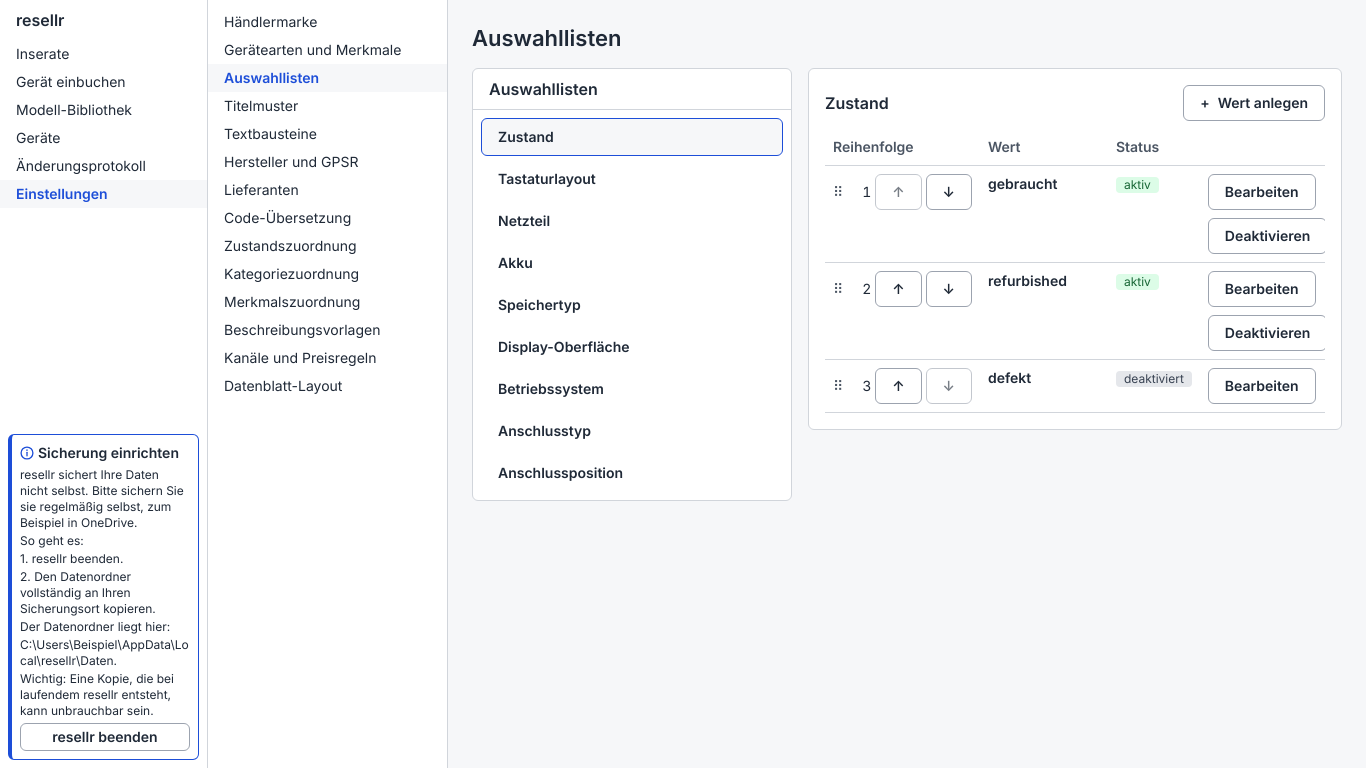
Test case: UI-028 pick lists (CU-096) › UI-028.success DER-35-03 DER-35-13 shows "Gespeichert" after a rename and opens no impact dialog UI-043
Expected: the row "⠿ 1 ↑ ↓ gebraucht aktiv Bearbeiten Deaktivieren" is shown, [825,165,1325,262]
Click the button "Bearbeiten" in the row of "gebraucht": [1262, 192] box [1208,174,1316,210]
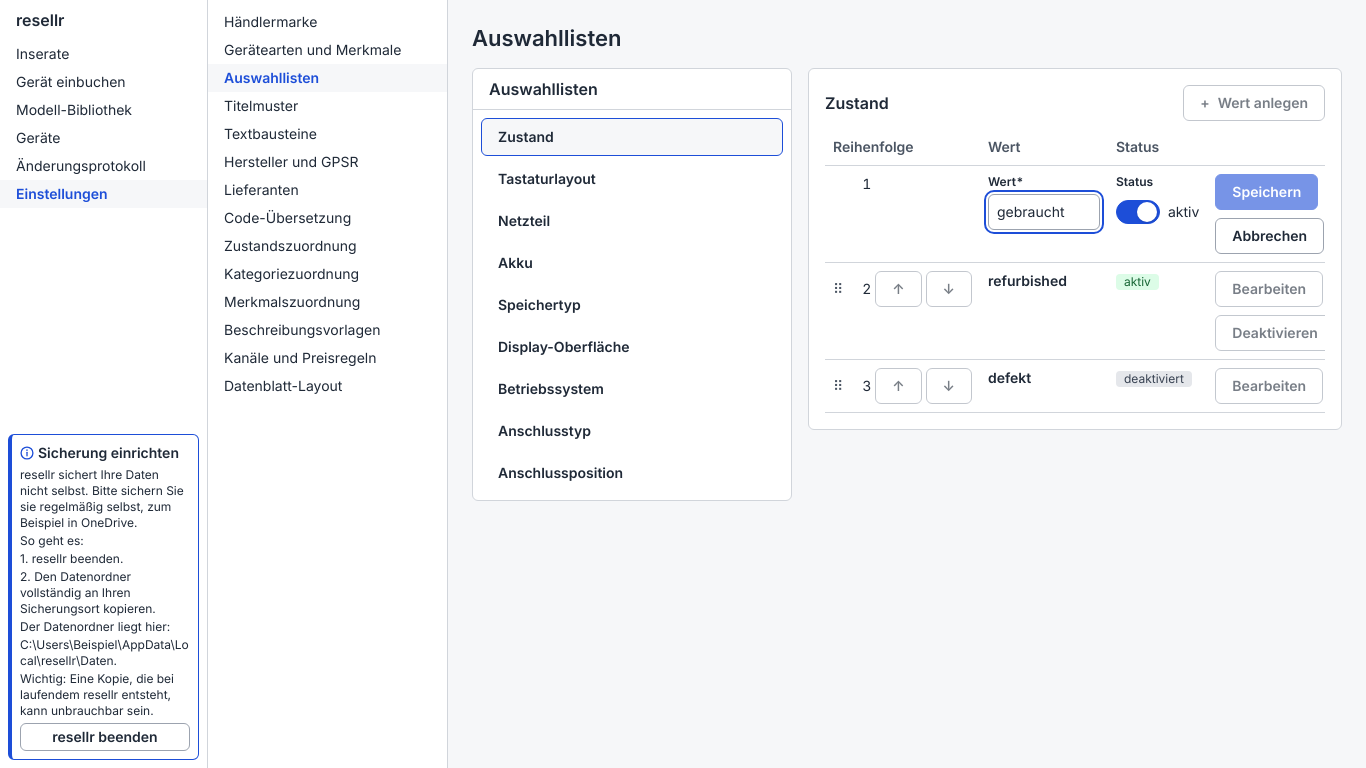
Replace the text in the field labelled "Wert*" with "benutzt": [1044, 212] box [988,194,1100,230]
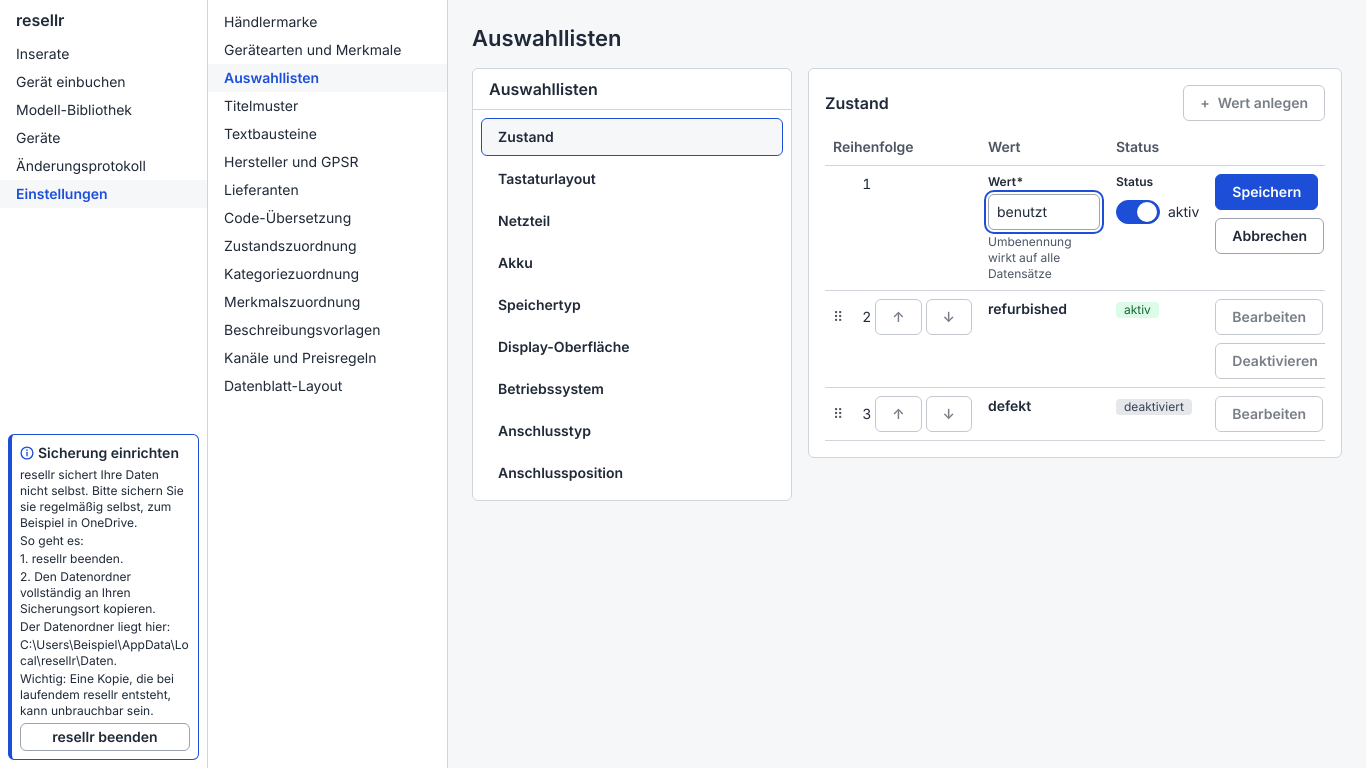
Click the button "Speichern": [1267, 192] box [1215,174,1318,210]
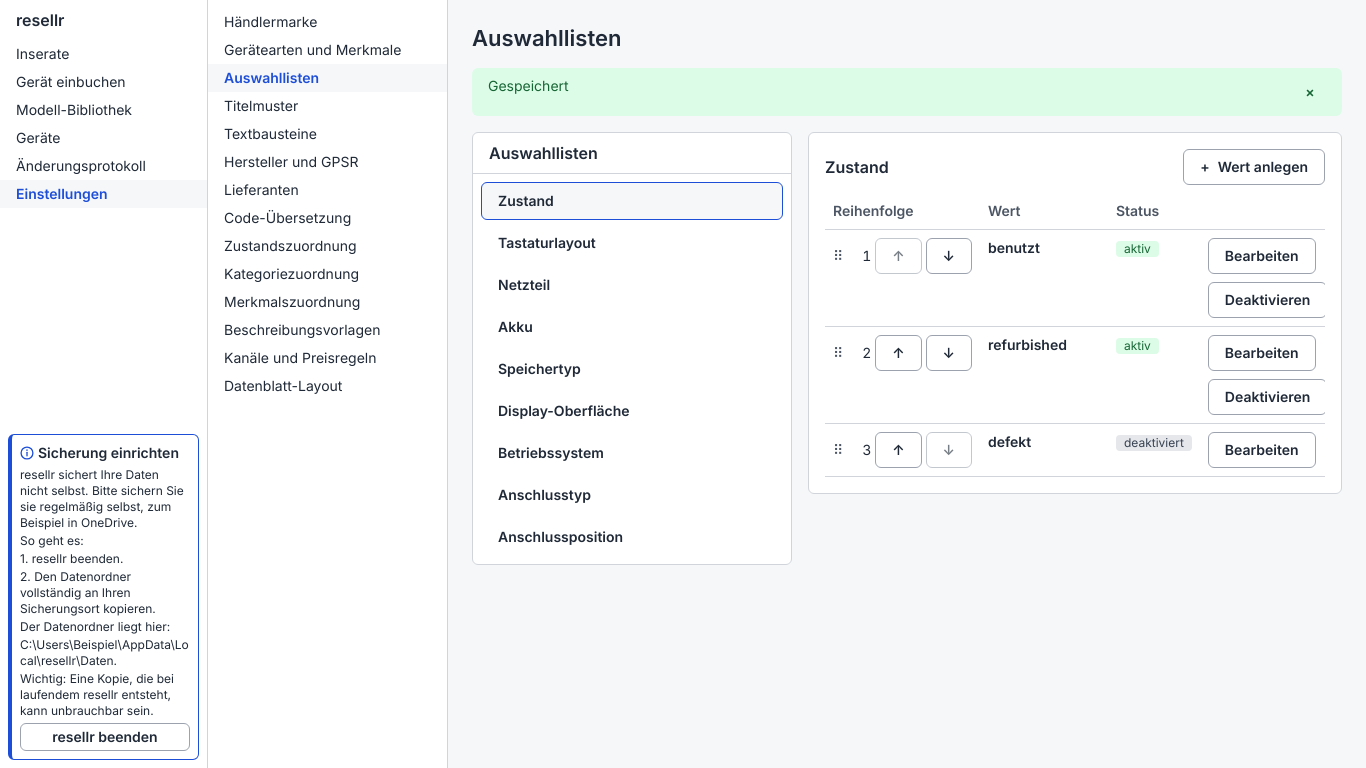
Expected: the text "Gespeichert" is shown, [488,77,569,94]
Expected: the row "⠿ 1 ↑ ↓ benutzt aktiv Bearbeiten Deaktivieren" is shown, [825,229,1325,326]
